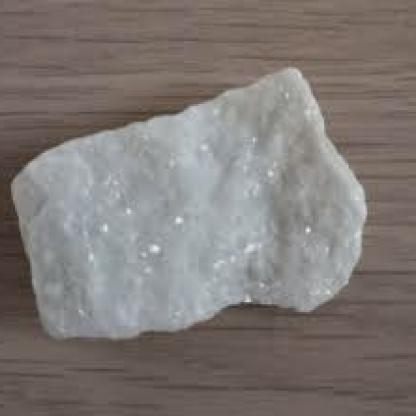Metamorphic_Marble: (2, 55, 380, 339)
